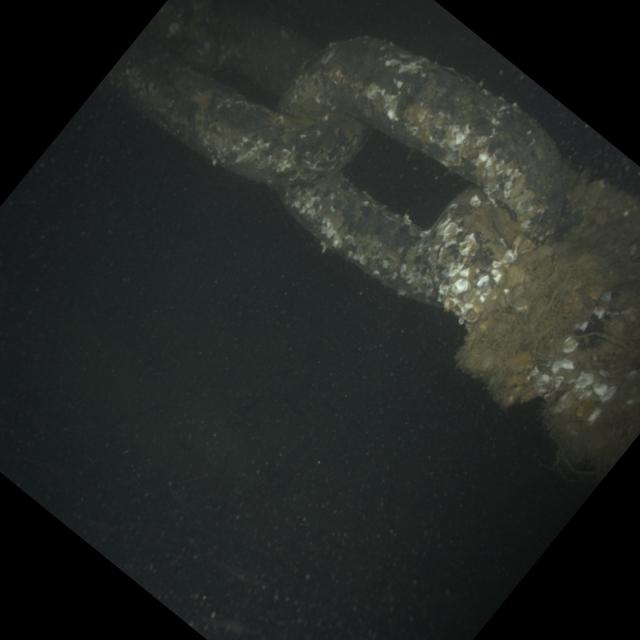ChainLink: (428, 172, 640, 476), (282, 39, 564, 241), (109, 44, 361, 186), (283, 172, 436, 302), (216, 9, 314, 97), (143, 0, 223, 73)
